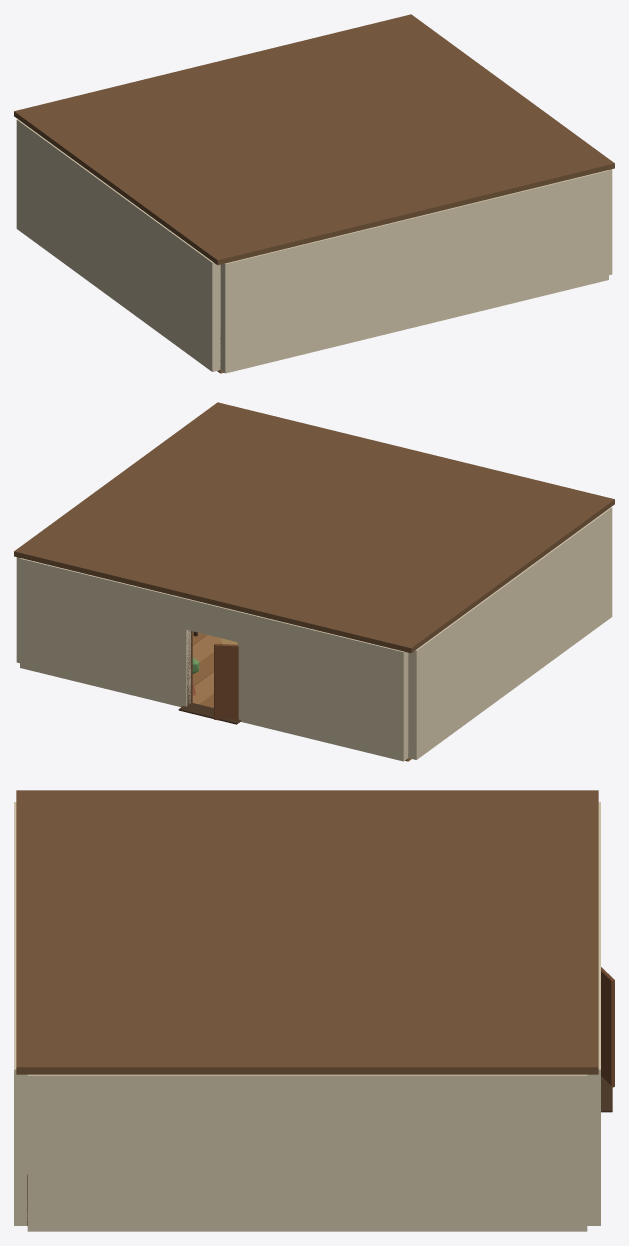
Rendered from echo_world_cafe_interior_v2.glb.
3 renders of one model, top to bottom at view 1: azimuth 30°, elevation 25°; view 2: azimuth 150°, elevation 25°; view 3: azimuth 270°, elevation 25°, orthographic. The views are drawn at different scales.
Parts seen in each view (by area): view 1: CEIL_Slab, WALL_North, WALL_West; view 2: CEIL_Slab, WALL_West, WALL_South_L, WALL_South_R, DOOR_Panel, WALL_South_Top, GROUND_CafeFloor; view 3: CEIL_Slab, WALL_East, WALL_North, WALL_South_R, DOOR_Panel.
Boxes of the visible parts, x1,y1,x2,y2 form: CEIL_Slab: (14, 14, 614, 265); WALL_North: (220, 170, 608, 373); WALL_West: (16, 119, 220, 371); CEIL_Slab: (14, 402, 614, 653); WALL_West: (408, 507, 612, 759); WALL_South_L: (237, 611, 408, 761); WALL_South_R: (20, 558, 190, 706); DOOR_Panel: (214, 644, 238, 720); WALL_South_Top: (186, 598, 237, 641); GROUND_CafeFloor: (192, 635, 411, 761); CEIL_Slab: (16, 790, 598, 1074); WALL_East: (27, 1074, 587, 1231); WALL_North: (14, 802, 27, 1225); WALL_South_R: (587, 954, 600, 1225); DOOR_Panel: (601, 967, 614, 1087).
Size of the model in its own units: 11.68 by 3.29 by 10.63.
